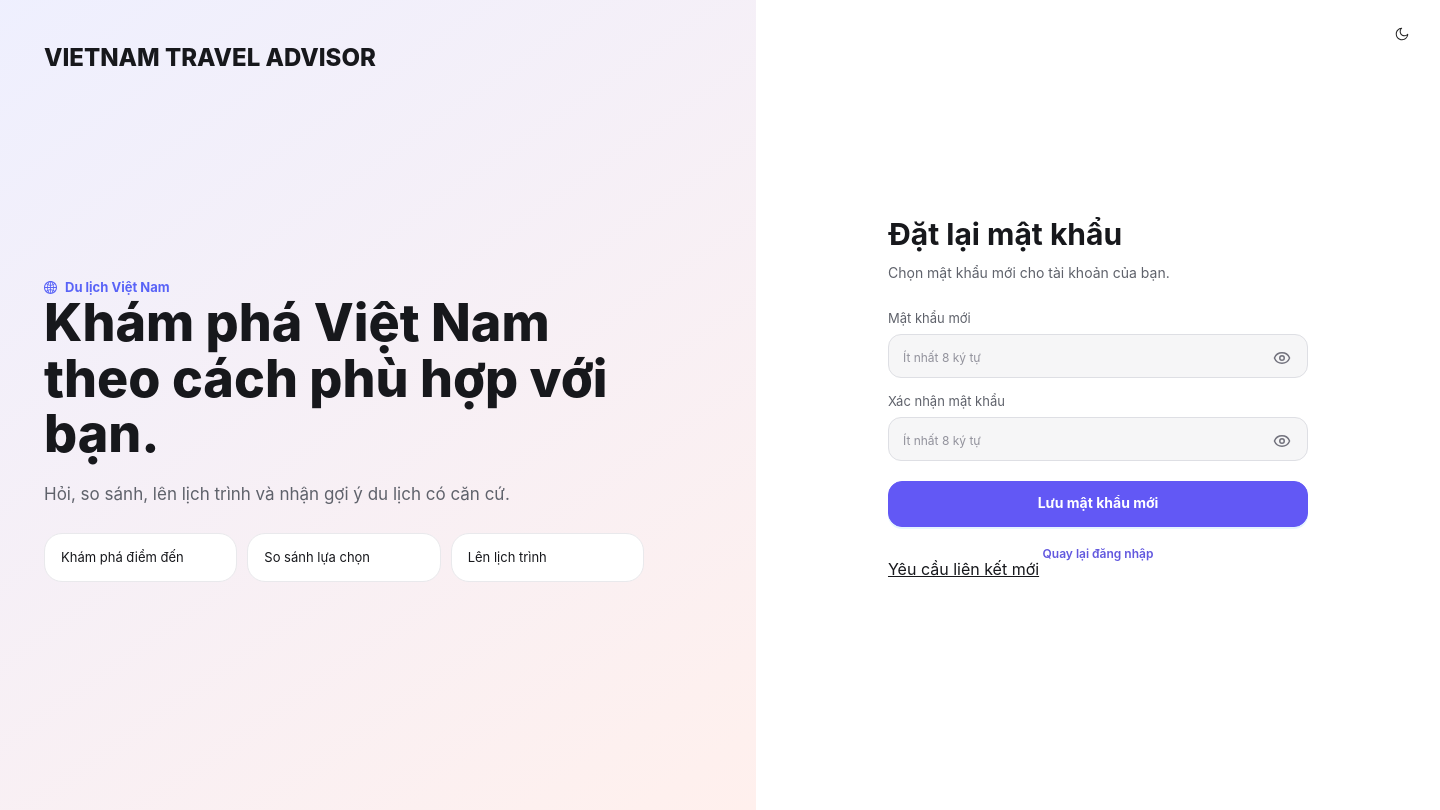
Scenario: Authentication user flows › resets with the fragment token and requires a new login
Type "Password123!" into the password field labelled "Mật khẩu mới" at coordinates (1098, 356), box [888,334,1308,378]
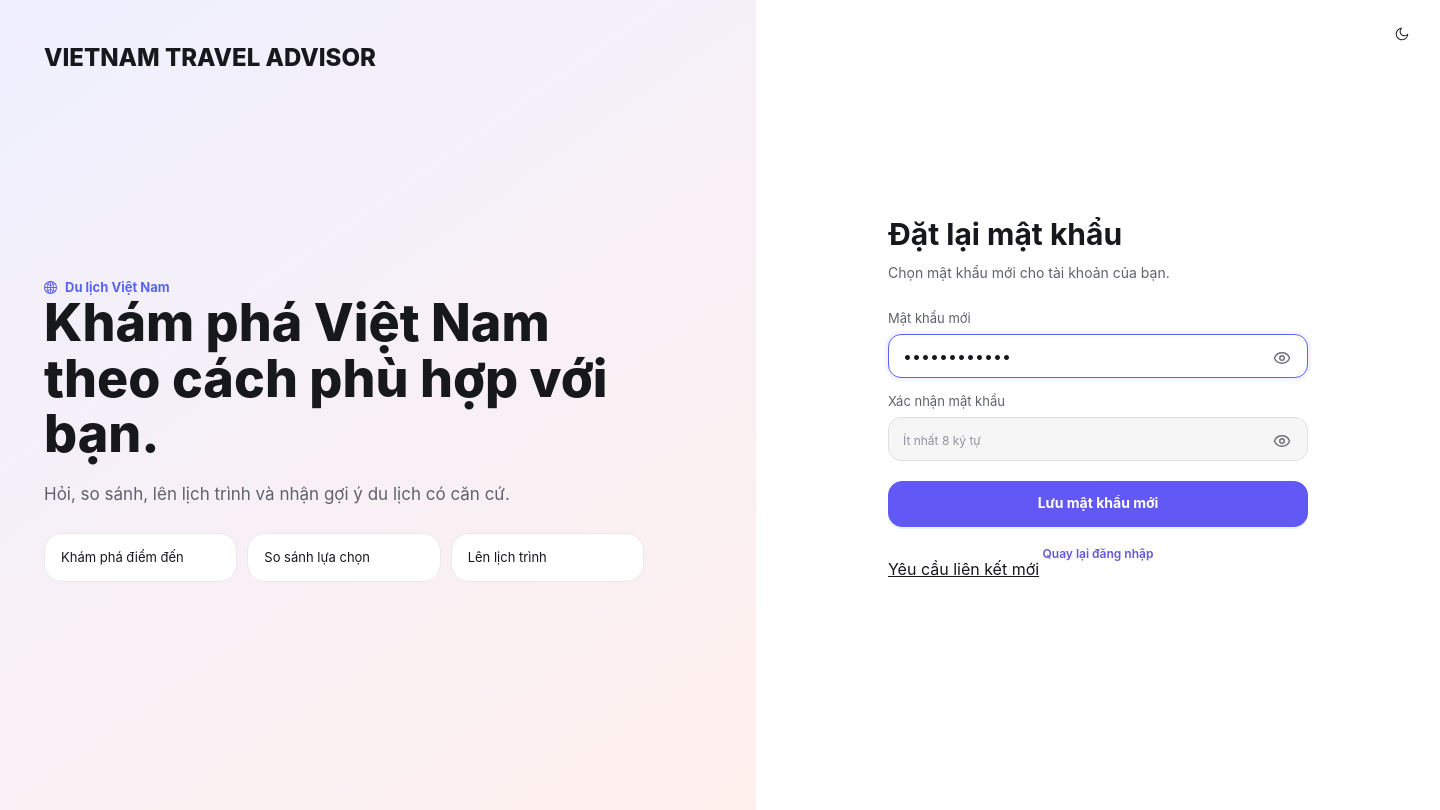
Type "Password123!" into the password field labelled "Xác nhận mật khẩu" at coordinates (1098, 438), box [888,416,1308,460]
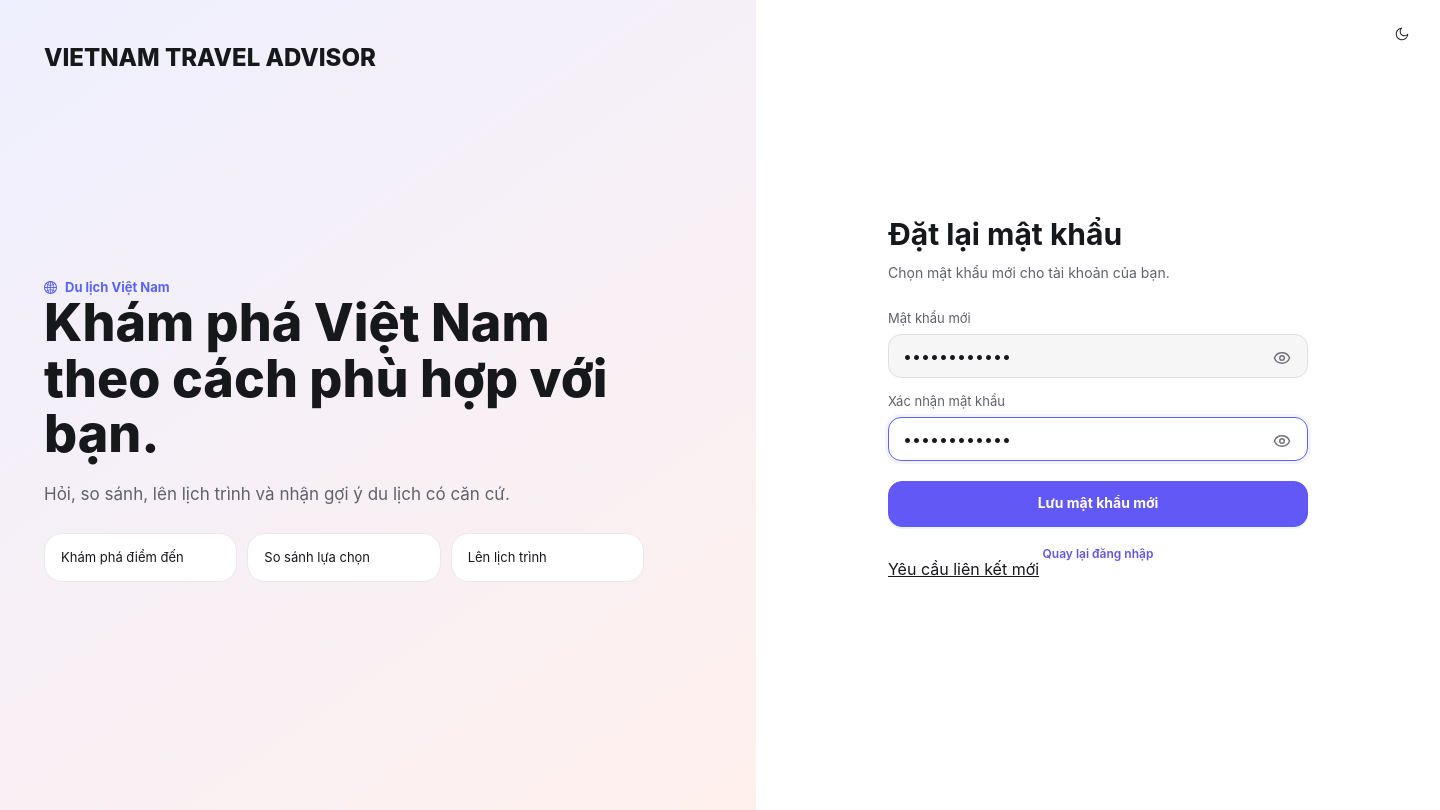
Click the button "Lưu mật khẩu mới" at coordinates (1098, 504), box [888,480,1308,526]
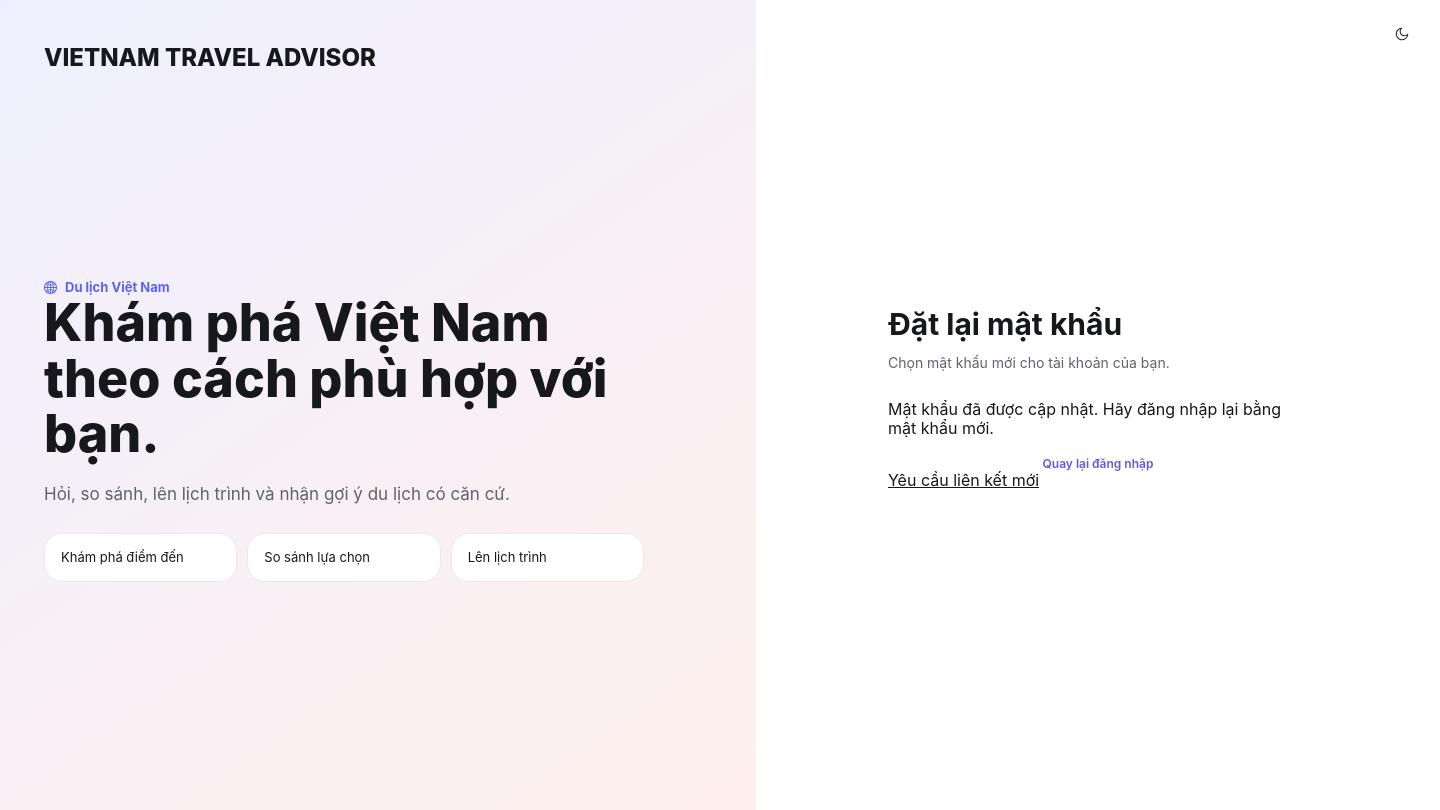
Result: the message "Mật khẩu đã được cập nhật. Hãy đăng nhập lại bằng mật khẩu mới." is shown at [888,400,1308,437]
